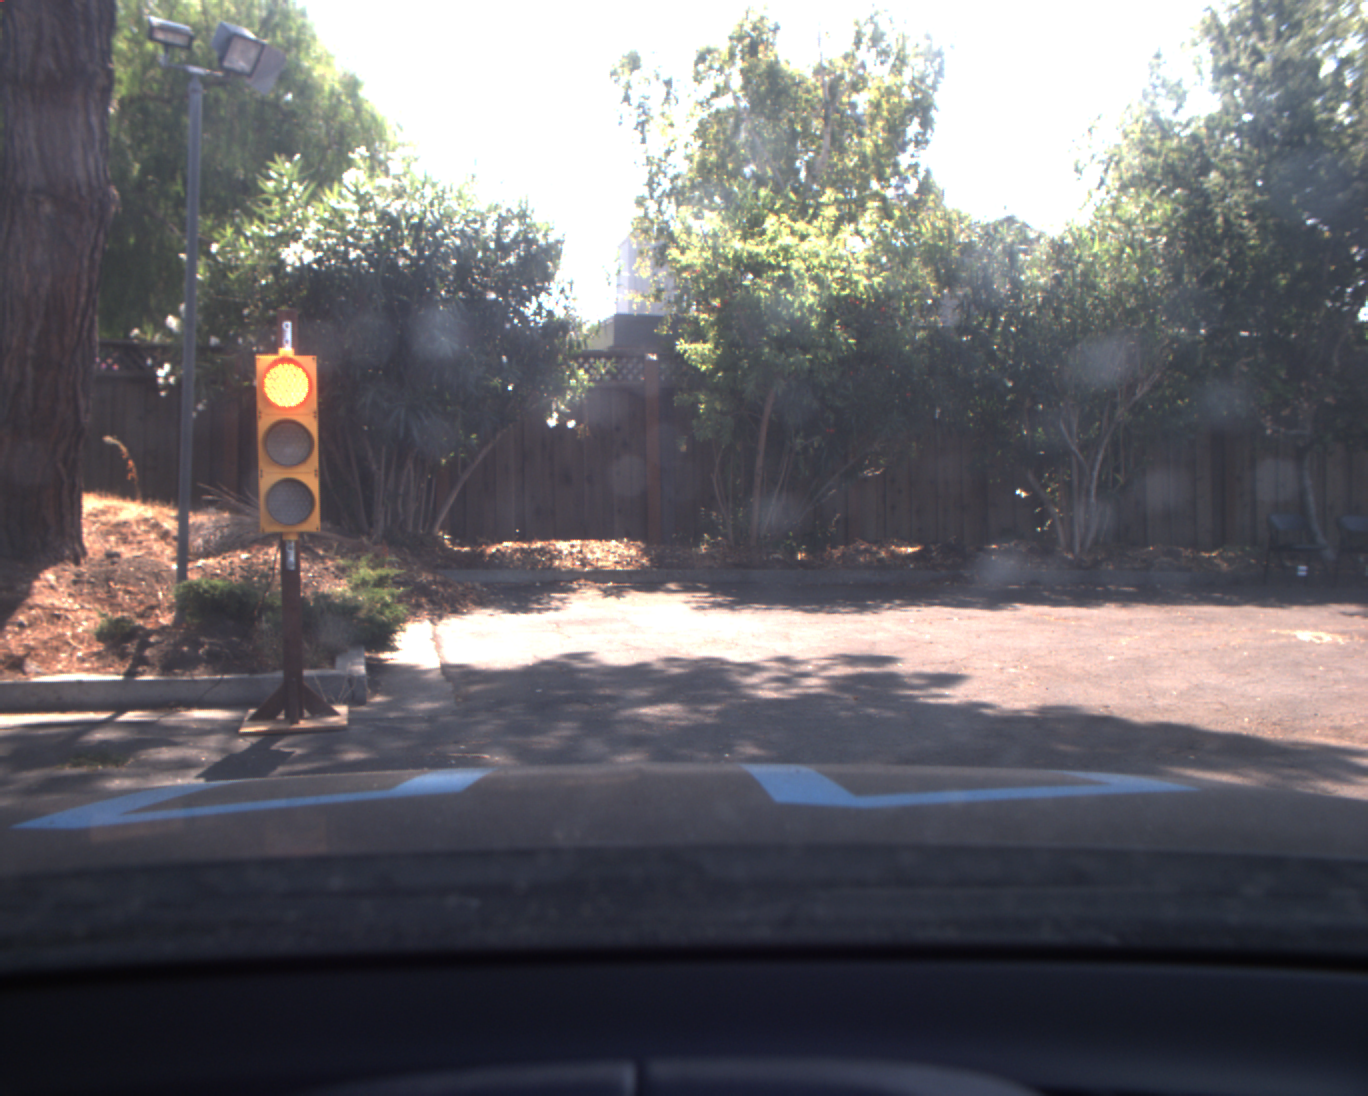red: (253, 346, 324, 537)
